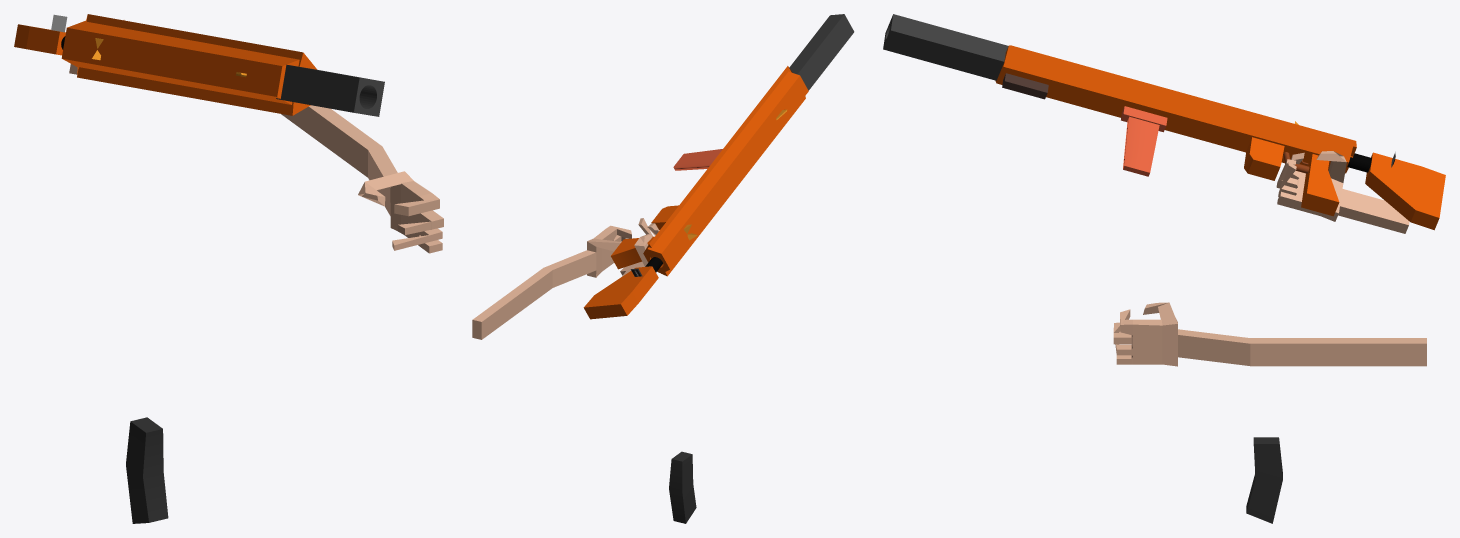
File: ar reload 5.fbx
The picture shows the model from 3 angles, left to right: view 1: azimuth 30°, elevation 25°; view 2: azimuth 150°, elevation 25°; view 3: azimuth 270°, elevation 25°; orthographic projection. The views are drawn at different scales.
Parts seen in each view (by area): view 1: Cube.011, Cube.013, Cube.008, Cube.004, Cube.005, Cube.009; view 2: Cube.011, Cube.013, Cube.005, Cube.009, Cube.008, Cube.004, Cube.012, Cube.002, Cube; view 3: Cube.008, Cube.013, Cube.005, Cube, Cube.009, Cube.004, Cube.012, Cube.002, Cube.010, Cube.003.
Boxes of the visible parts, x1,y1,x2,y2 form: Cube.011: [61, 20, 299, 104]; Cube.013: [281, 105, 443, 253]; Cube.008: [77, 14, 316, 115]; Cube.004: [126, 417, 168, 523]; Cube.005: [276, 64, 384, 116]; Cube.009: [14, 24, 65, 55]; Cube.011: [647, 71, 808, 273]; Cube.013: [472, 225, 631, 339]; Cube.005: [789, 14, 854, 90]; Cube.009: [583, 266, 658, 319]; Cube.008: [643, 66, 805, 276]; Cube.004: [669, 451, 696, 523]; Cube.012: [673, 149, 722, 170]; Cube.002: [611, 236, 654, 269]; Cube: [620, 218, 659, 276]; Cube.008: [995, 45, 1354, 170]; Cube.013: [1113, 302, 1426, 366]; Cube.005: [883, 14, 1008, 80]; Cube: [1276, 151, 1409, 233]; Cube.009: [1365, 152, 1445, 230]; Cube.004: [1246, 437, 1282, 523]; Cube.012: [1121, 106, 1167, 176]; Cube.002: [1301, 154, 1339, 216]; Cube.010: [1244, 137, 1284, 180]; Cube.003: [1002, 73, 1048, 99].
Size of the model in its own units: 772 by 1728 by 1768.
Materials: 11 (1 with a texture image).
